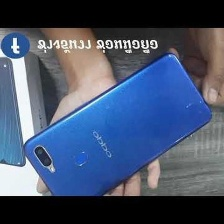book: (0, 42, 56, 206)
phone: (21, 47, 215, 207)
